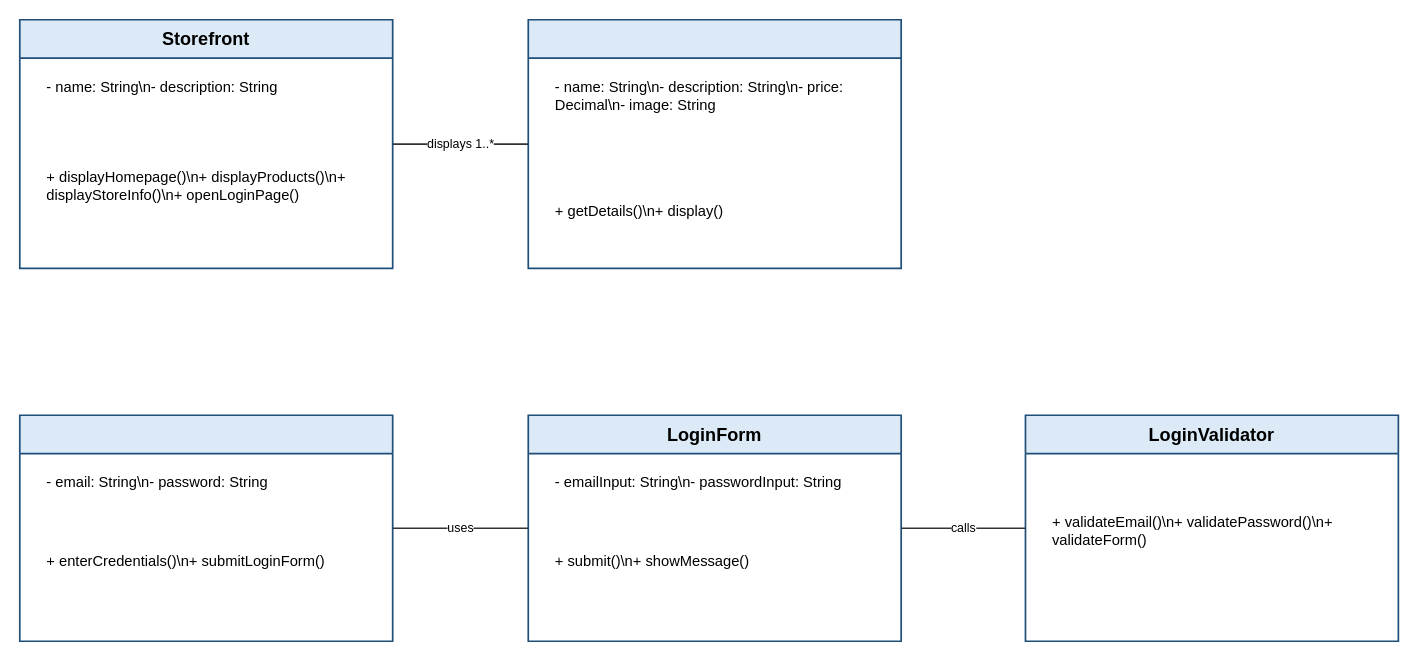
Image size: 1419x662. Some labels were removed from this diagram. The shapes that lost their labels are listed below. From the top down, each one's box as (x1, y1, x2, y2) in pixels, then its label:
(527, 18, 902, 269): Product
(18, 414, 393, 642): Customer
